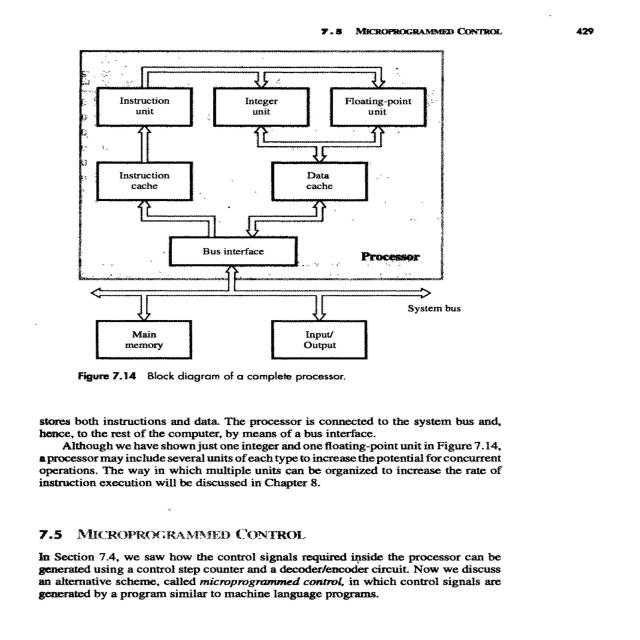diagram: (52, 42, 548, 390)
